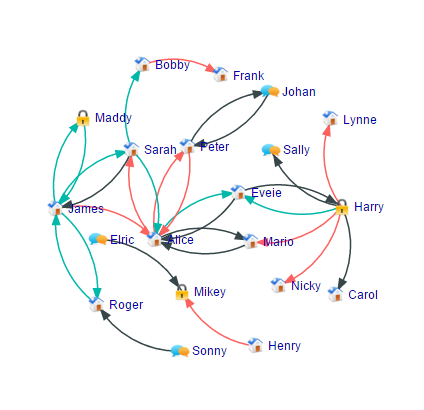

The page's visual inventory and layout, read from the dashboard file:
{"tool":"powerbi","page":{"name":"Players","canvas":[1280,720],"ordinal":0},"visuals":[{"type":"esriVisual","fields":{"Latitude":["Query1.lat"],"Longitude":["Query1.lon"],"Time":["Query1.eventts"],"Size":["Sum(playergeo.players)"]},"box":[10.2,37.1,1140.7,613.4],"z":1}]}

Visuals, with their boxes on the page's 1280x720 design canvas (x1, y1, x2, y2). These are canvas units, not pixel positions in the 424x410 screenshot, which may show the page scaled, cropped or inside an application window:
esriVisual - Query1.lat x Query1.lon: l=10, t=37, r=1151, b=650
